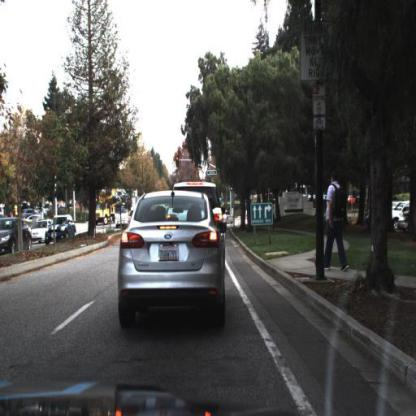car: (117, 189, 226, 335), (44, 216, 76, 243), (30, 218, 52, 245), (208, 185, 221, 226), (31, 218, 49, 245)
pedestrian: (325, 164, 348, 273)
trafficLight: (176, 157, 181, 168)
trafficLight-RedLeft: (174, 155, 182, 171)
truck: (95, 188, 136, 224), (114, 189, 137, 226)
